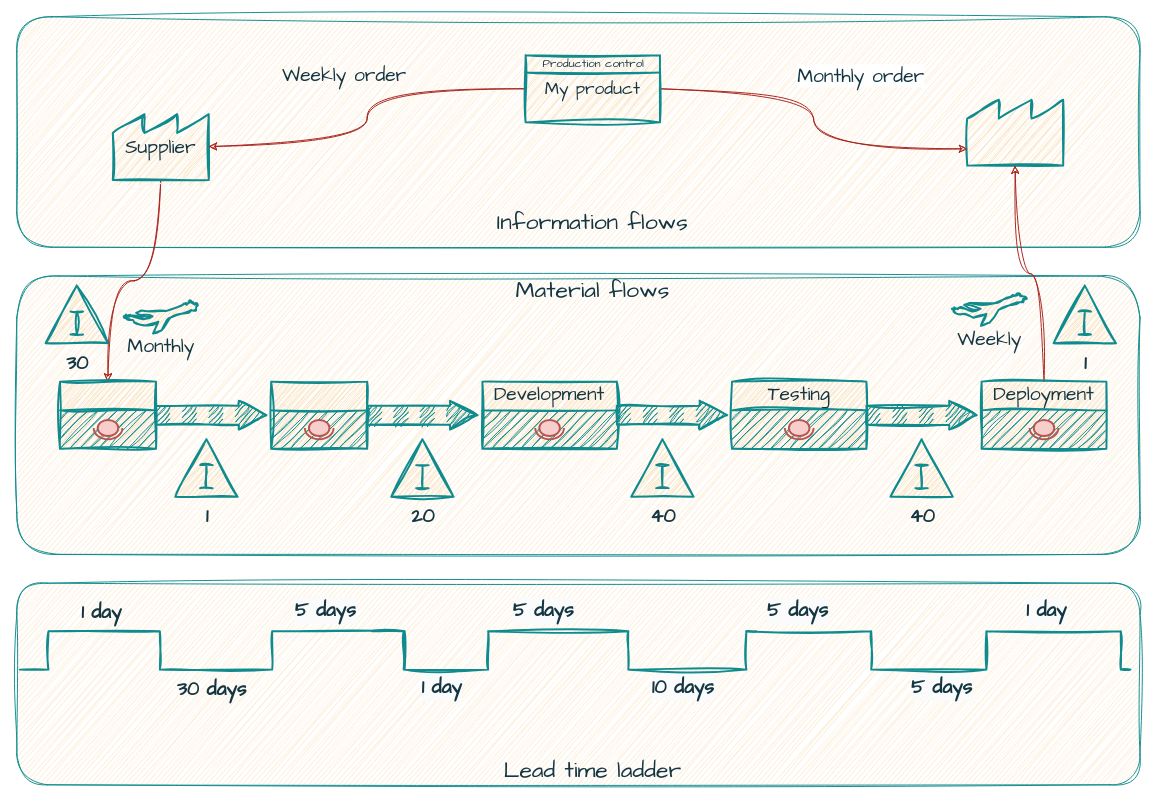
This 1157x803 diagram has some shape labels left out. Here are the shapes that lost their labels. From the top down, the box of each, then its label:
(966, 97, 1064, 166): Customer
(59, 380, 156, 449): Marketing
(270, 380, 368, 449): Research
